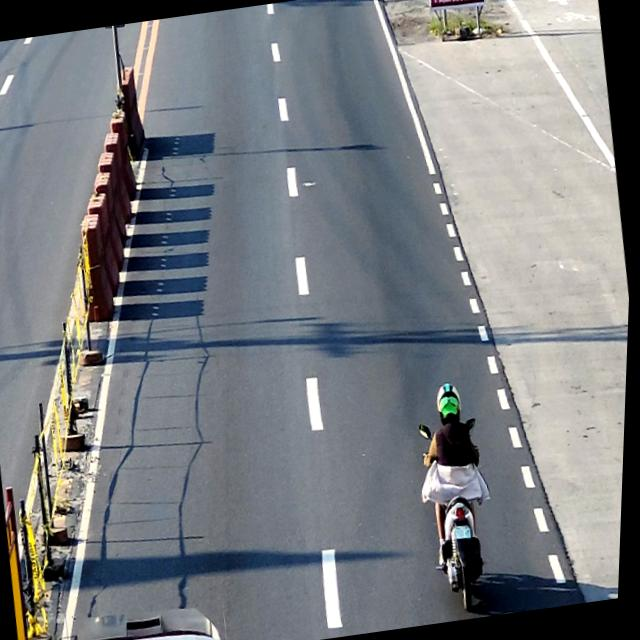License-Plate: (454, 523, 477, 542)
Motorcycle: (414, 415, 505, 616)
